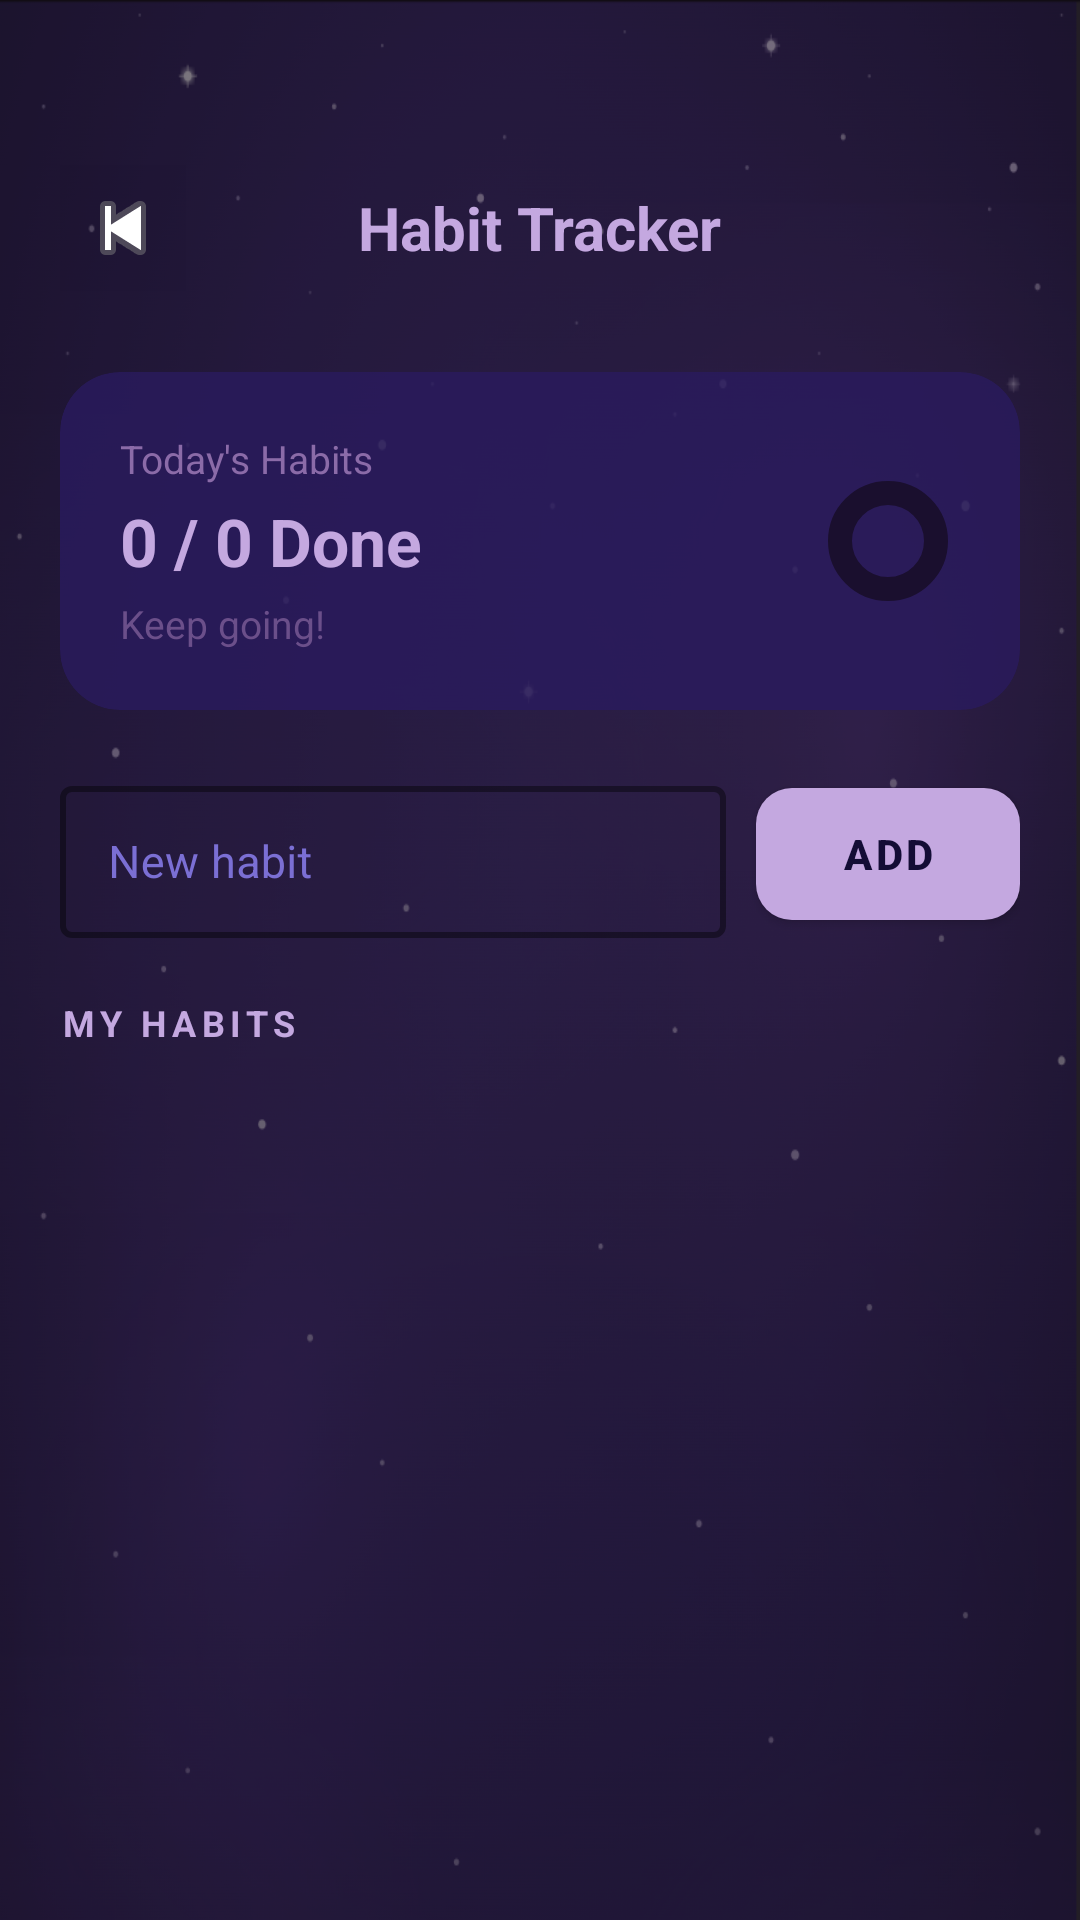

Icon click points for this 1080px×1920px phone screenshot, format [x,y]:
previous: [117,228]
